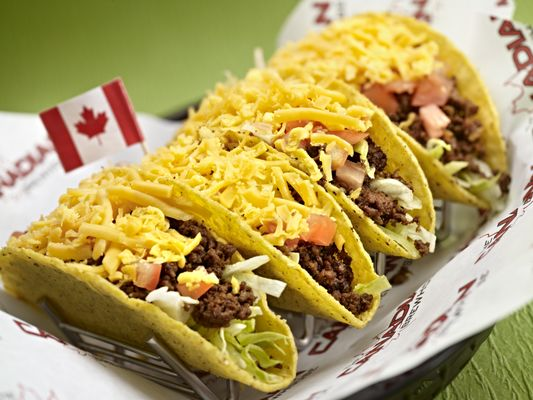burger: (1, 293, 224, 400)
